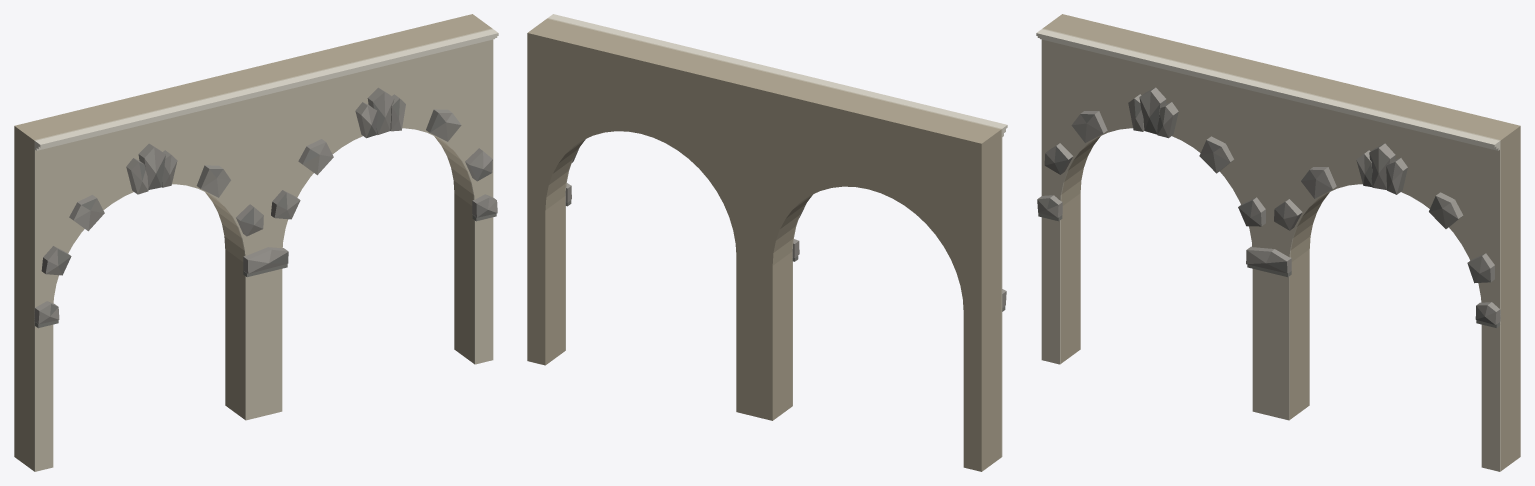
Rendered from xuhui-fenyang-experts-villa-twin-rusticated-arches-lod.glb.
3 views of the same model, side by side, from view 1: azimuth 30°, elevation 25°; view 2: azimuth 150°, elevation 25°; view 3: azimuth 330°, elevation 25° (orthographic).
Visible parts, largest first — view 1: 上海音乐学院专家楼底层双券与毛石拱饰; view 2: 上海音乐学院专家楼底层双券与毛石拱饰; view 3: 上海音乐学院专家楼底层双券与毛石拱饰.
Part boxes in pixels (bbox=[...]): 上海音乐学院专家楼底层双券与毛石拱饰: bbox=[14, 14, 498, 471]; 上海音乐学院专家楼底层双券与毛石拱饰: bbox=[527, 14, 1007, 471]; 上海音乐学院专家楼底层双券与毛石拱饰: bbox=[1036, 14, 1520, 471].
Bounding box in the file's own units: 5.52 × 3.81 × 0.5716.
